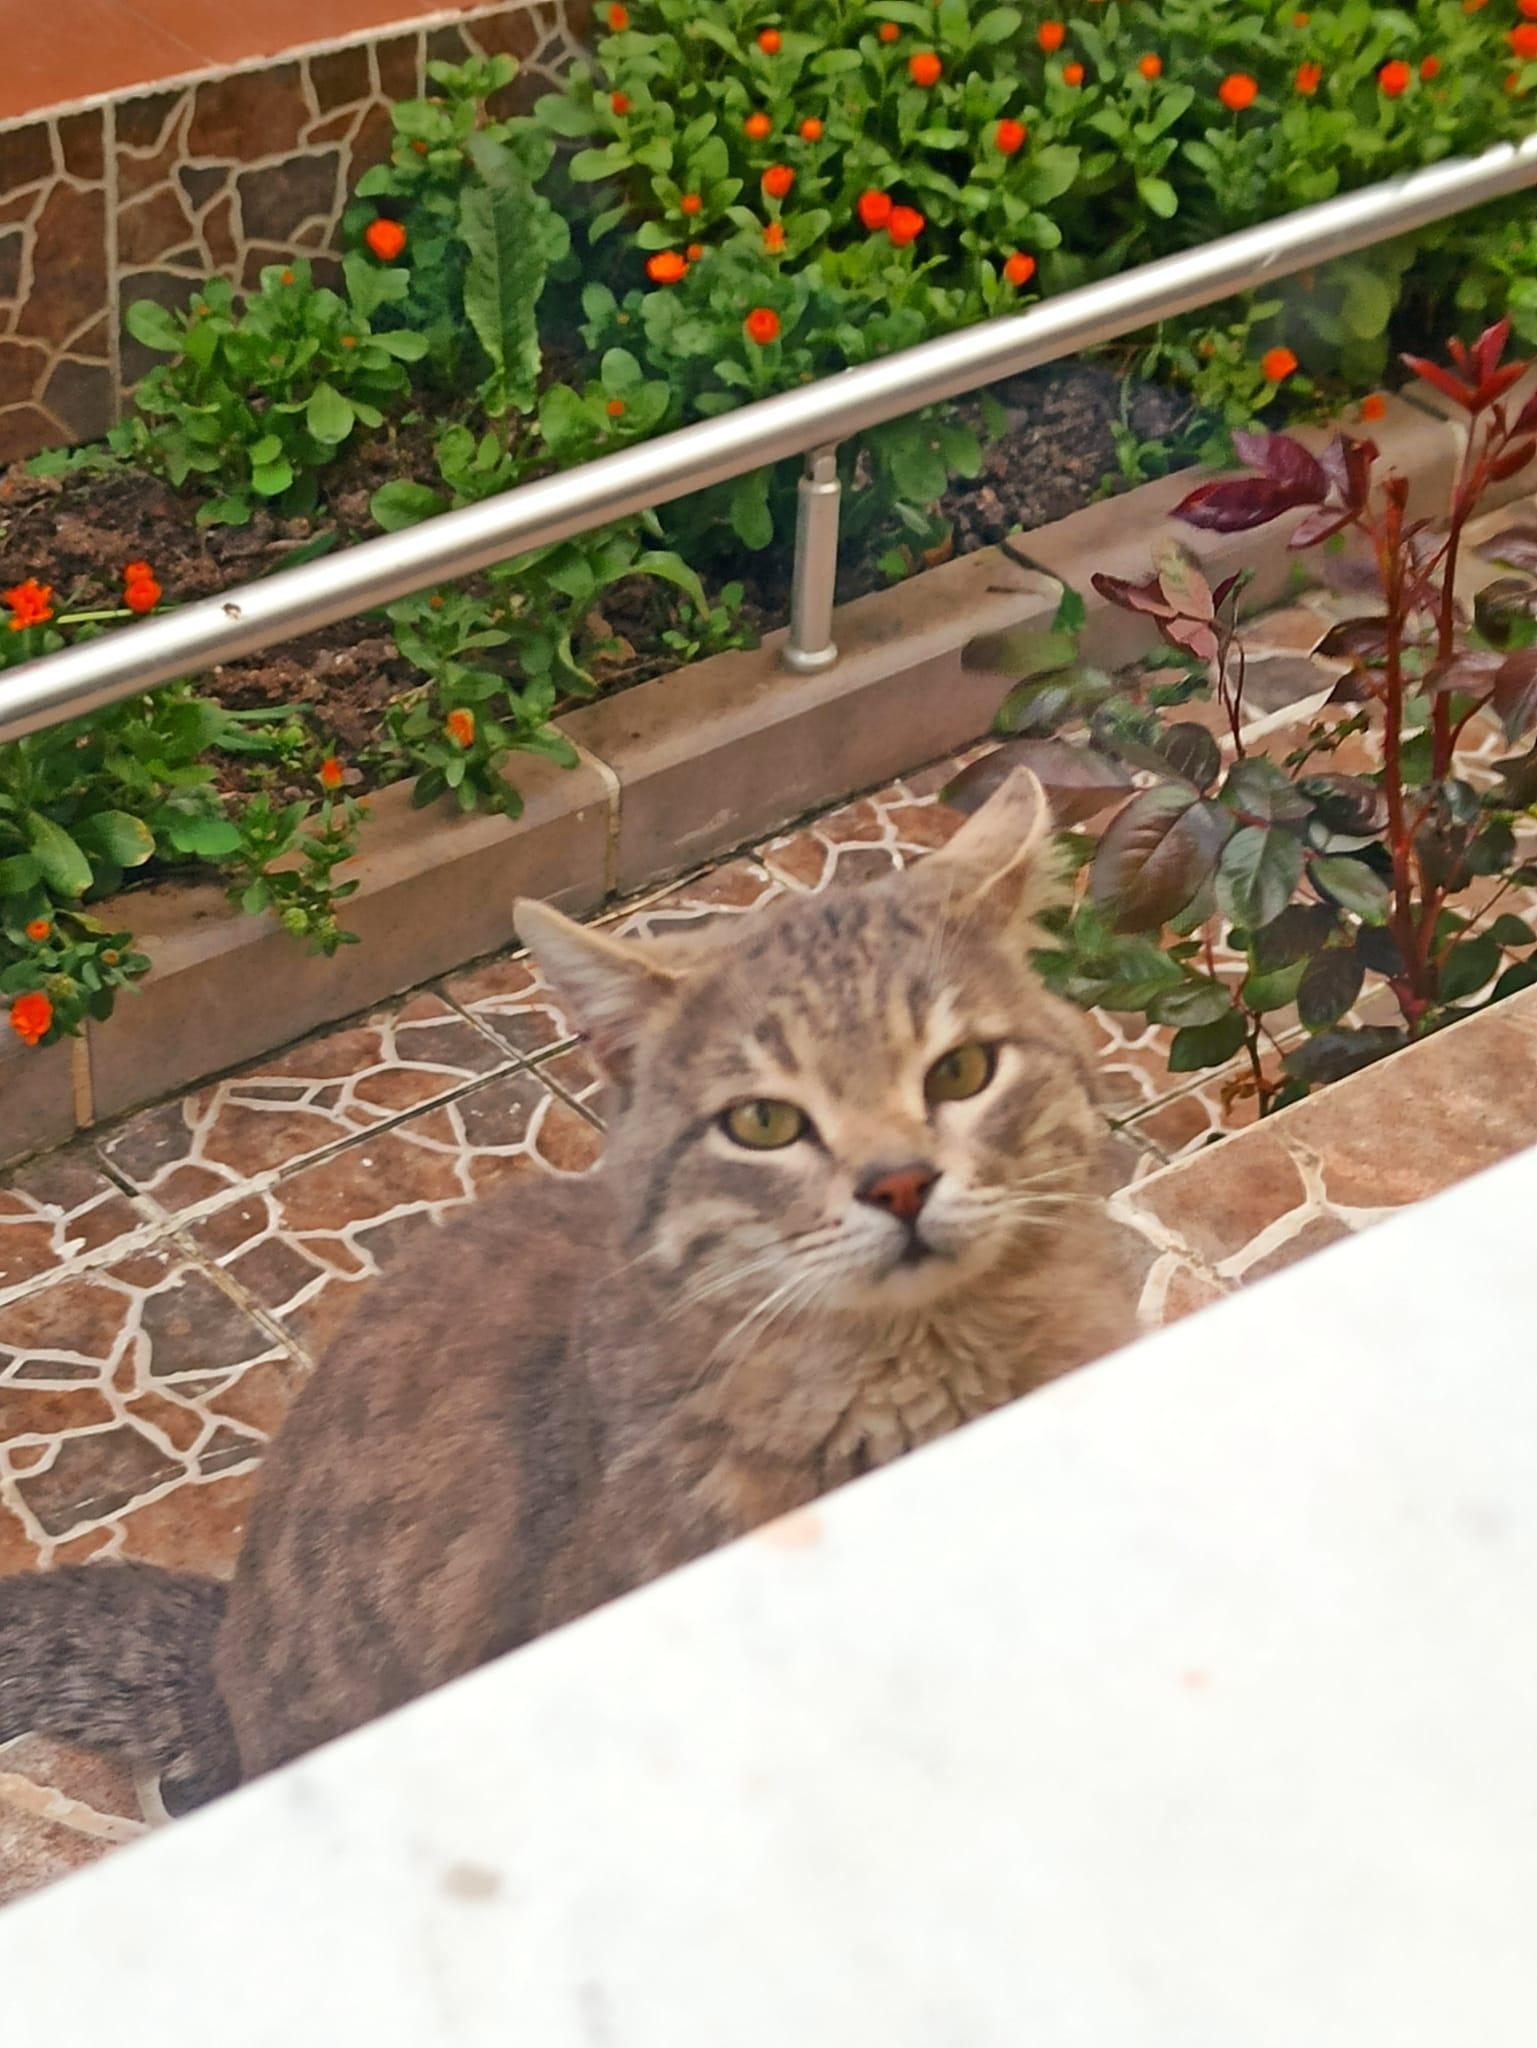kedo: (0, 778, 1138, 1738)
